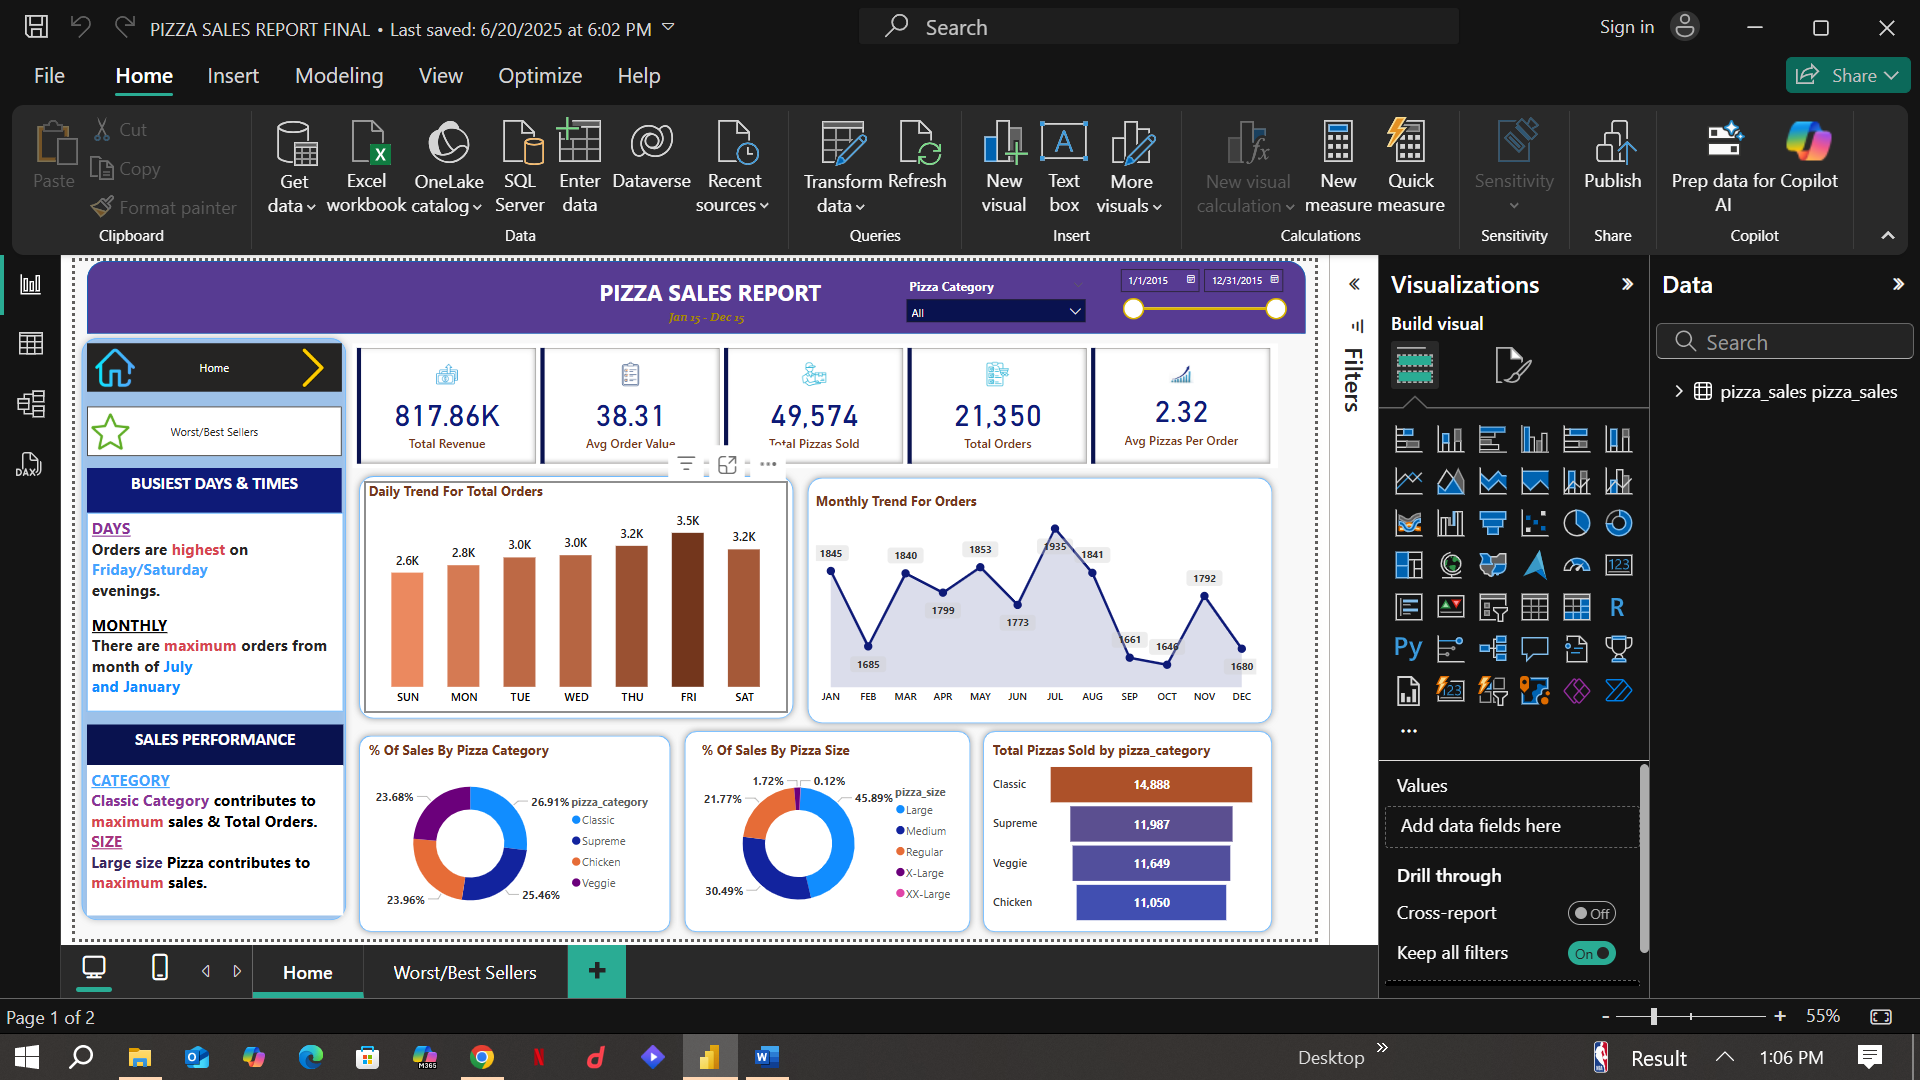

This screenshot's page, from the dashboard's own definition file:
{"tool":"powerbi","page":{"name":"Home","canvas":[1500,820],"ordinal":0},"visuals":[{"type":"shape","box":[0,86,336,720],"z":0},{"type":"image","box":[555.6,24.1,92.6,55.6],"z":1000},{"type":"cardVisual","fields":{"Data":["pizza_sales pizza_sales.Total Revenue","pizza_sales pizza_sales.Avg Order Value","pizza_sales pizza_sales.Total Pizzas Sold","pizza_sales pizza_sales.Total Orders","pizza_sales pizza_sales.Avg Pizzas Per Order"]},"box":[336.3,100.5,1119.2,150.8],"z":2000},{"type":"shape","box":[14,0,1474,88],"z":3000},{"type":"textbox","box":[540.7,14.8,455.6,53.7],"z":4000},{"type":"textbox","box":[713,51.9,125.9,35.2],"z":5000},{"type":"shape","box":[336.3,251.3,541.2,309.3],"z":6000},{"type":"columnChart","title":"Daily Trend For Total Orders","fields":{"Category":["pizza_sales pizza_sales.Order Day"],"Y":["pizza_sales pizza_sales.Total Orders"]},"box":[350,266,512,280],"z":7000},{"type":"shape","box":[877.6,253.2,578,313.1],"z":8000},{"type":"areaChart","title":"Monthly Trend For Orders","fields":{"Y":["pizza_sales pizza_sales.Total Orders"],"Category":["pizza_sales pizza_sales.Order Month"]},"box":[891.1,280.3,543.2,264.8],"z":9000},{"type":"shape","box":[336.3,566.4,392.4,253.2],"z":10000},{"type":"shape","box":[728.7,560.6,361.5,259],"z":11000},{"type":"shape","box":[1090.2,560.6,365.3,259],"z":12000},{"type":"donutChart","title":"% Of Sales By Pizza Category","fields":{"Category":["pizza_sales pizza_sales.pizza_category"],"Y":["pizza_sales pizza_sales.Total Revenue"]},"box":[350,580,364,226],"z":13000},{"type":"donutChart","title":"% Of Sales By Pizza Size","fields":{"Y":["pizza_sales pizza_sales.Total Revenue"],"Category":["pizza_sales pizza_sales.pizza_size"]},"box":[752,580,324,226],"z":14000},{"type":"funnel","fields":{"Category":["pizza_sales pizza_sales.pizza_category"],"Y":["pizza_sales pizza_sales.Total Pizzas Sold"]},"box":[1105.7,579.9,328.6,226.2],"z":15000},{"type":"textbox","box":[14,250,308,54],"z":16000},{"type":"textbox","box":[14,304,310,240],"z":17000},{"type":"textbox","box":[14,560,310,50],"z":17001},{"type":"textbox","box":[14,610,310,182],"z":17002},{"type":"slicer","fields":{"Values":["pizza_sales pizza_sales.pizza_category"]},"box":[996,14,236,74],"z":17003},{"type":"slicer","fields":{"Values":["pizza_sales pizza_sales.order_date_clean"]},"box":[1252,0,222,80],"z":17005},{"type":"pageNavigator","box":[14,100,308,58],"z":17006},{"type":"pageNavigator","box":[14,176,308,60],"z":17007},{"type":"image","box":[254,100,68,58],"z":17008},{"type":"image","box":[14,100,68,58],"z":17009},{"type":"image","box":[14,176,56,60],"z":17010}]}

Visuals, with their boxes on the page's 1500x820 design canvas (x1, y1, x2, y2). These are canvas units, not pixel positions in the 1920x1080 screenshot, which may show the page scaled, cropped or inside an application window:
shape: region(0, 86, 336, 806)
image: region(556, 24, 648, 80)
cardVisual - pizza_sales pizza_sales.Total Revenue x pizza_sales pizza_sales.Avg Order Value: region(336, 100, 1456, 251)
shape: region(14, 0, 1488, 88)
textbox: region(541, 15, 996, 68)
textbox: region(713, 52, 839, 87)
shape: region(336, 251, 878, 561)
"Daily Trend For Total Orders" columnChart: region(350, 266, 862, 546)
shape: region(878, 253, 1456, 566)
"Monthly Trend For Orders" areaChart: region(891, 280, 1434, 545)
shape: region(336, 566, 729, 820)
shape: region(729, 561, 1090, 820)
shape: region(1090, 561, 1456, 820)
"% Of Sales By Pizza Category" donutChart: region(350, 580, 714, 806)
"% Of Sales By Pizza Size" donutChart: region(752, 580, 1076, 806)
funnel - pizza_sales pizza_sales.pizza_category x pizza_sales pizza_sales.Total Pizzas Sold: region(1106, 580, 1434, 806)
textbox: region(14, 250, 322, 304)
textbox: region(14, 304, 324, 544)
textbox: region(14, 560, 324, 610)
textbox: region(14, 610, 324, 792)
slicer - pizza_sales pizza_sales.pizza_category: region(996, 14, 1232, 88)
slicer - pizza_sales pizza_sales.order_date_clean: region(1252, 0, 1474, 80)
pageNavigator: region(14, 100, 322, 158)
pageNavigator: region(14, 176, 322, 236)
image: region(254, 100, 322, 158)
image: region(14, 100, 82, 158)
image: region(14, 176, 70, 236)
